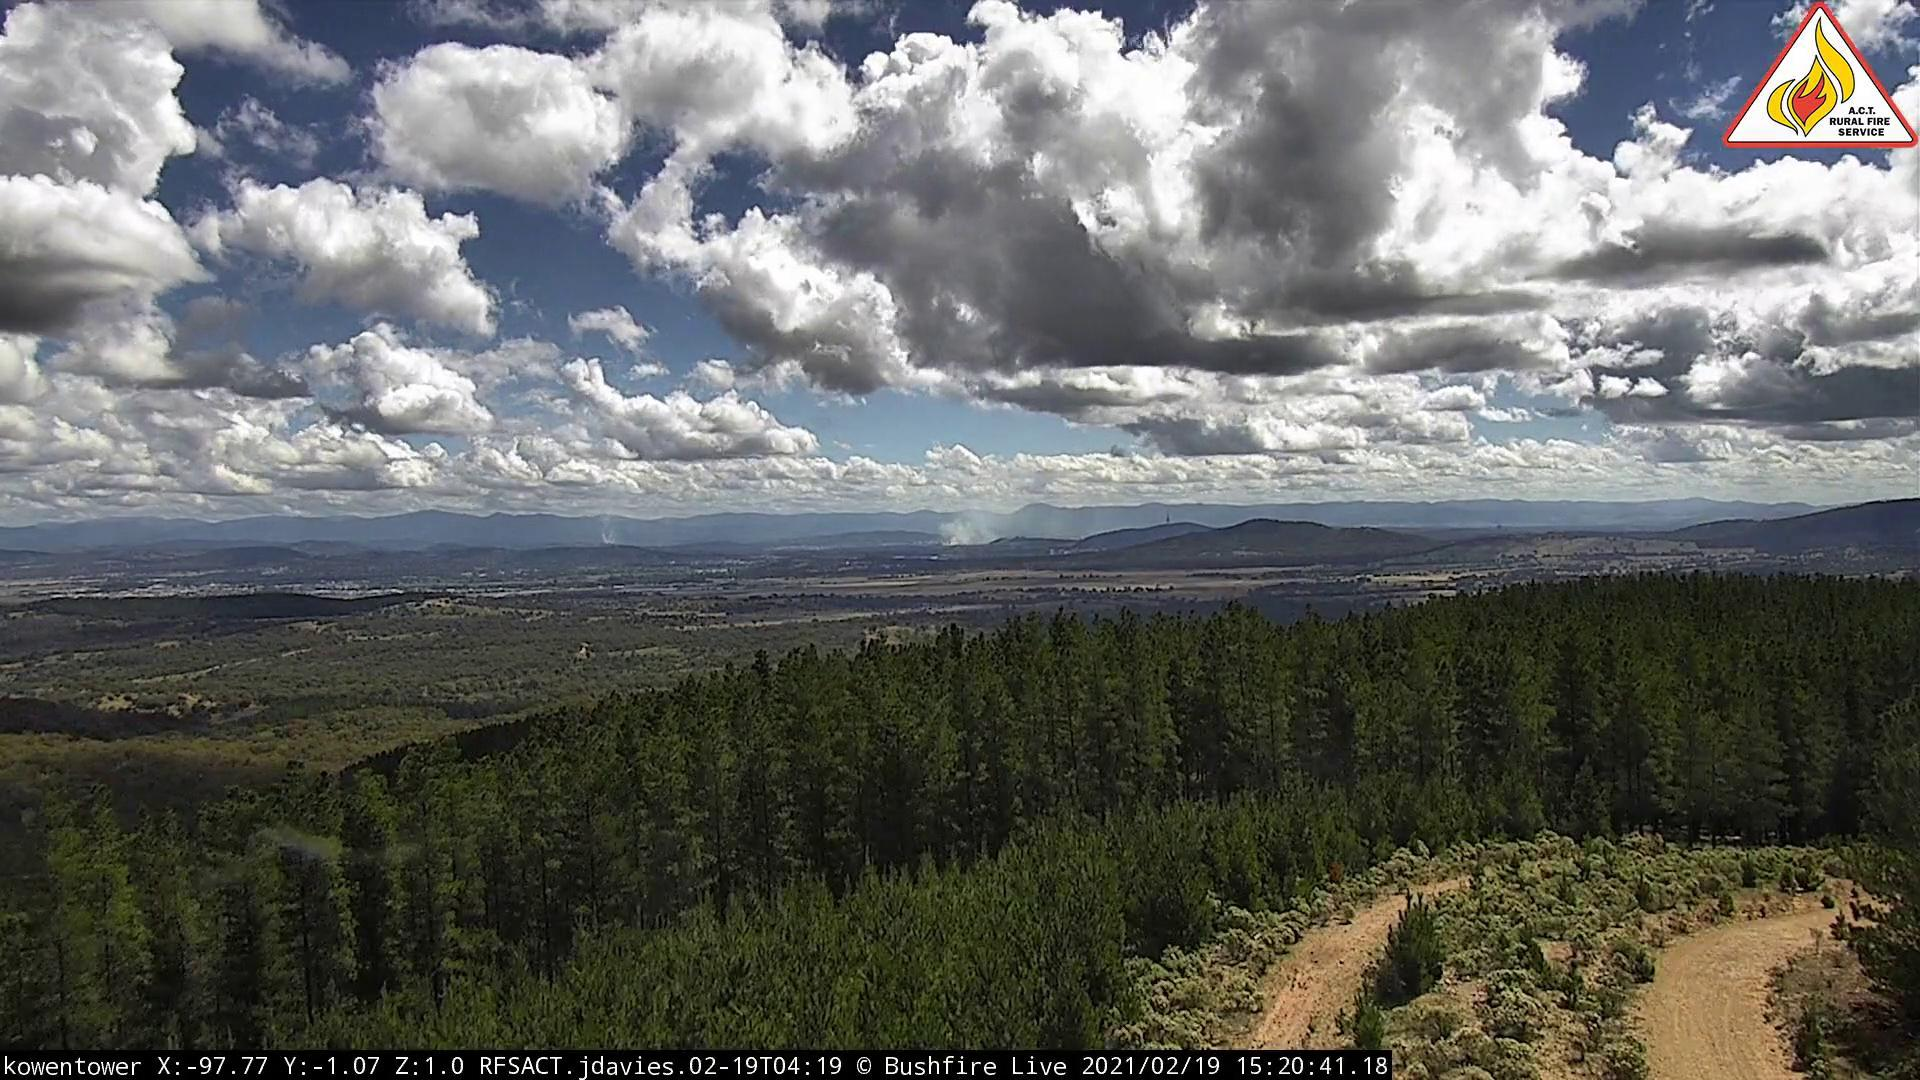Smoke: (938, 504, 1017, 553), (600, 513, 638, 554)
